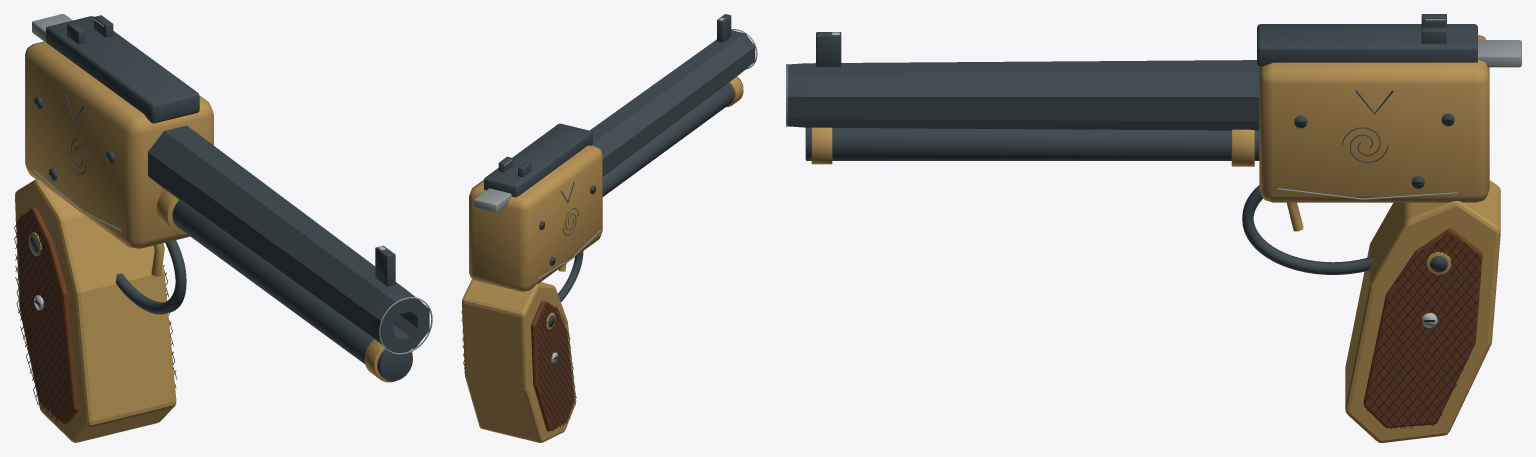
File: volcanic.glb
The picture shows the model from 3 angles, left to right: view 1: azimuth 30°, elevation 25°; view 2: azimuth 150°, elevation 25°; view 3: azimuth 270°, elevation 25°; orthographic projection. The views are drawn at different scales.
Parts seen in each view (by area): view 1: volcanic / Antique engraved brass, volcanic / Deep blued steel, volcanic / Rich oiled walnut, volcanic / Recess and rubber, volcanic / Fine polished highlights; view 2: volcanic / Antique engraved brass, volcanic / Deep blued steel, volcanic / Rich oiled walnut, volcanic / Recess and rubber, volcanic / Fine polished highlights; view 3: volcanic / Deep blued steel, volcanic / Antique engraved brass, volcanic / Rich oiled walnut, volcanic / Recess and rubber, volcanic / Fine polished highlights.
Part boxes in pixels (x1,y1,x2,y2): volcanic / Antique engraved brass: (15, 41, 412, 442); volcanic / Deep blued steel: (29, 15, 429, 381); volcanic / Rich oiled walnut: (17, 207, 78, 424); volcanic / Recess and rubber: (14, 101, 177, 421); volcanic / Fine polished highlights: (32, 14, 432, 354); volcanic / Antique engraved brass: (462, 77, 743, 442); volcanic / Deep blued steel: (484, 14, 755, 327); volcanic / Rich oiled walnut: (531, 300, 574, 431); volcanic / Recess and rubber: (461, 188, 595, 431); volcanic / Fine polished highlights: (474, 29, 757, 278); volcanic / Deep blued steel: (787, 14, 1477, 274); volcanic / Antique engraved brass: (811, 35, 1500, 442); volcanic / Rich oiled walnut: (1363, 228, 1482, 428); volcanic / Recess and rubber: (1296, 120, 1480, 428); volcanic / Fine polished highlights: (786, 19, 1521, 199).
Size of the model in its own units: 0.0568 by 0.1917 by 0.3196.
